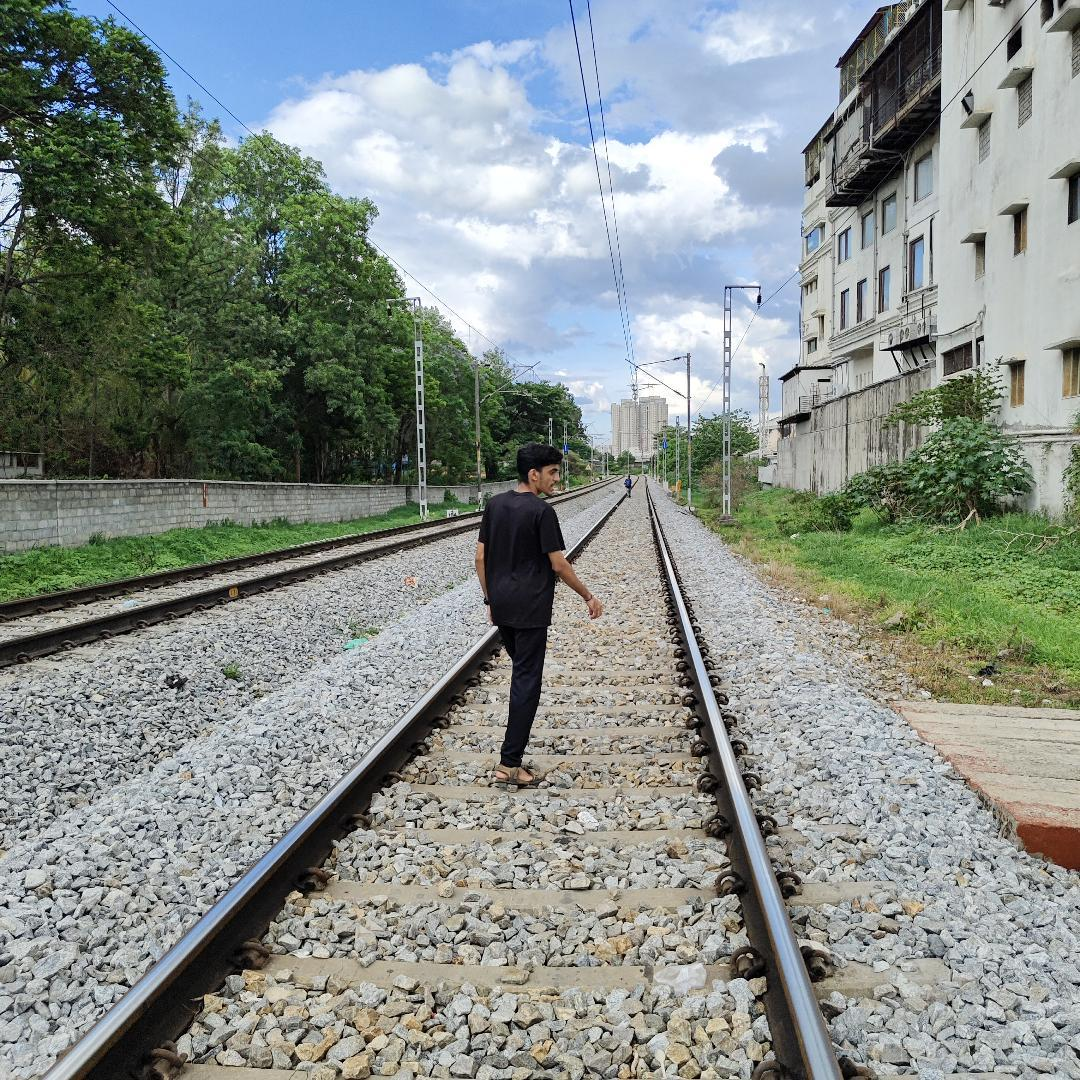standing: (468, 434, 596, 802)
